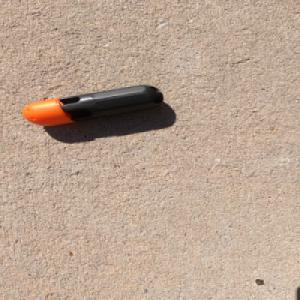PlasticPart: (21, 84, 165, 129)
